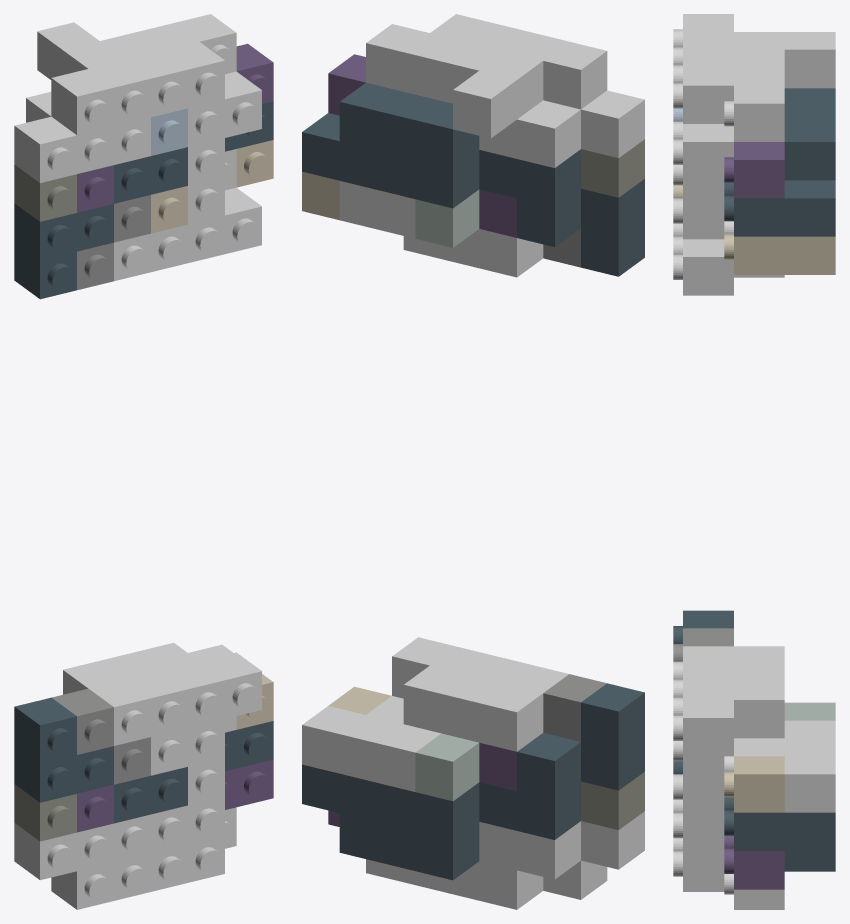
Rendered from full.glb.
3 views of the same model, side by side, from view 1: azimuth 30°, elevation 25°; view 2: azimuth 150°, elevation 25°; view 3: azimuth 270°, elevation 25° (orthographic). The views are drawn at different scales.
Parts seen in each view (by area): view 1: world; view 2: world; view 3: world.
Boxes of the visible parts, left/top/right/bottom form: world: left=14, top=14, right=273, bottom=909; world: left=302, top=14, right=644, bottom=909; world: left=673, top=14, right=835, bottom=909.
Size of the model in its own units: 56 by 168 by 30.6.
